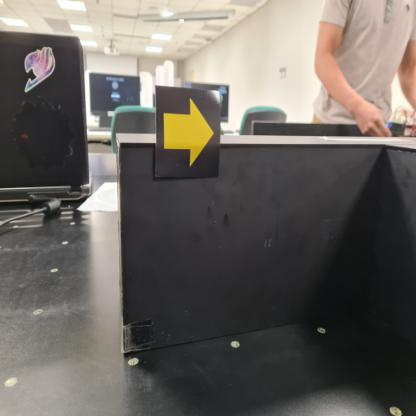right: (154, 85, 222, 181)
